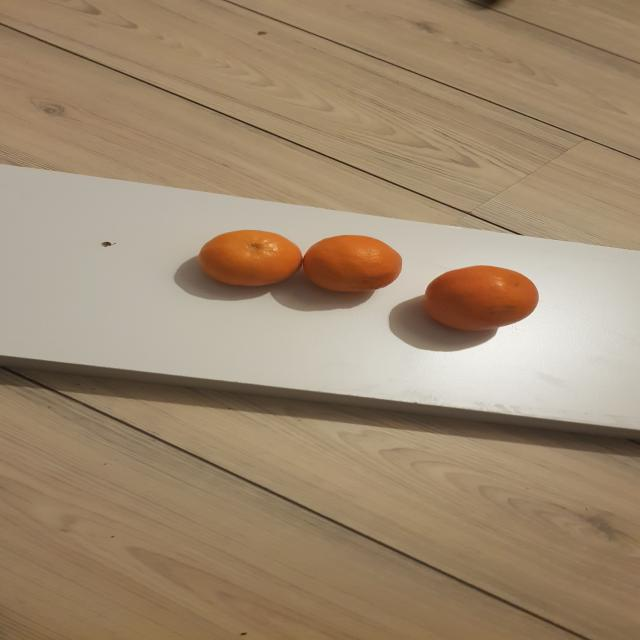Orange: (423, 266, 539, 328), (198, 230, 303, 287), (303, 235, 402, 292)
